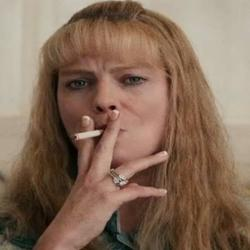smoking: (66, 121, 128, 142)
